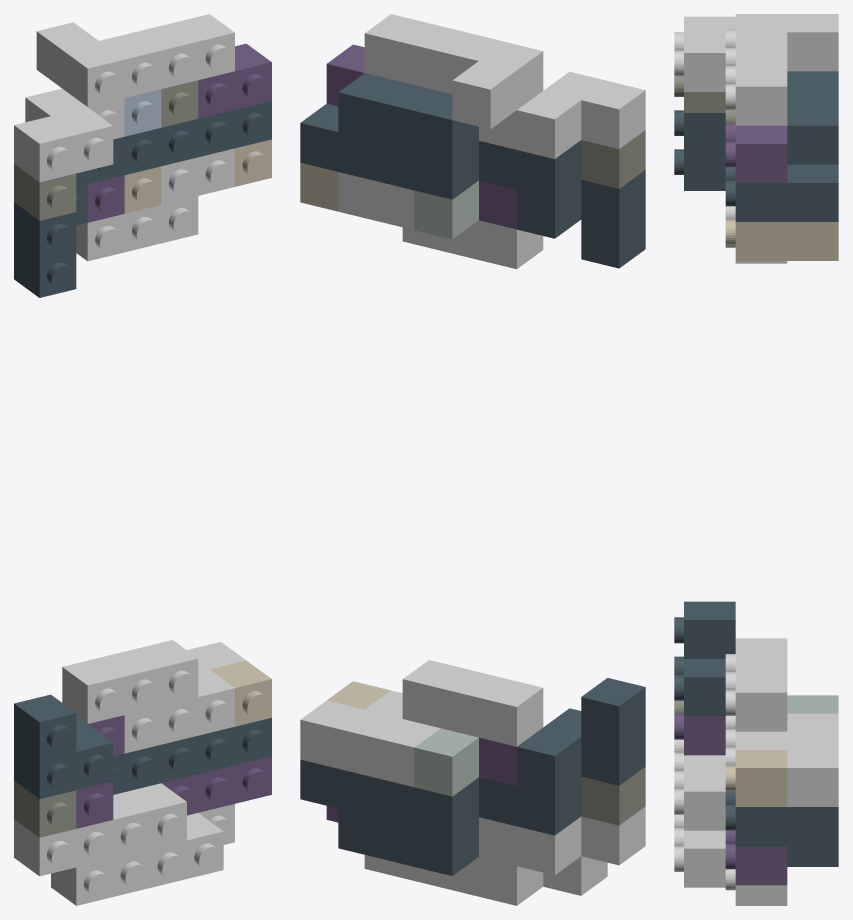
The model's file is full.glb.
3 views of the same model, side by side, from view 1: azimuth 30°, elevation 25°; view 2: azimuth 150°, elevation 25°; view 3: azimuth 270°, elevation 25° (orthographic). The views are drawn at different scales.
Parts seen in each view (by area): view 1: world; view 2: world; view 3: world.
Boxes of the visible parts, box(x1,y1,x2,y2) form: world: box(14, 14, 271, 905); world: box(300, 14, 645, 905); world: box(674, 14, 838, 905).
Size of the model in its own units: 56 by 168 by 30.6.
